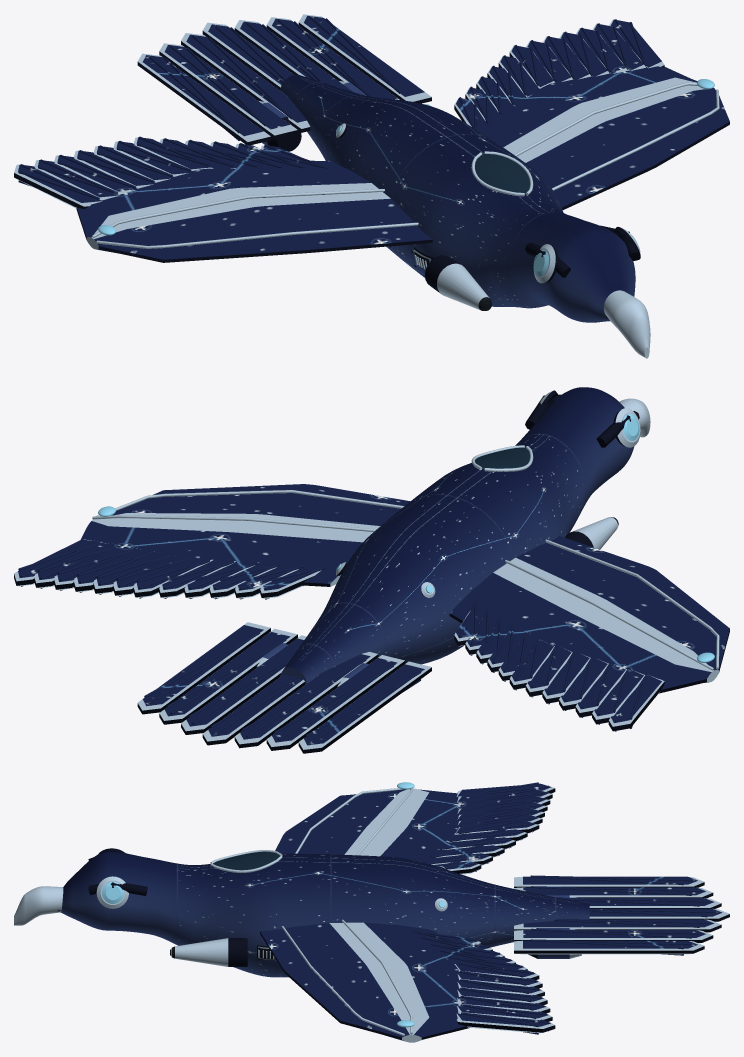
3 renders of one model, top to bottom at view 1: azimuth 30°, elevation 25°; view 2: azimuth 150°, elevation 25°; view 3: azimuth 270°, elevation 25°, orthographic. The views are drawn at different scales.
Visible parts, largest first — view 1: shrike_hull; view 2: shrike_hull; view 3: shrike_hull.
Boxes of the visible parts, x1,y1,x2,y2 form: shrike_hull: (14, 14, 729, 358); shrike_hull: (14, 387, 729, 753); shrike_hull: (14, 782, 729, 1042).
Size of the model in its own units: 13.49 by 2.96 by 16.5.
Materials: 1 (1 with a texture image).
